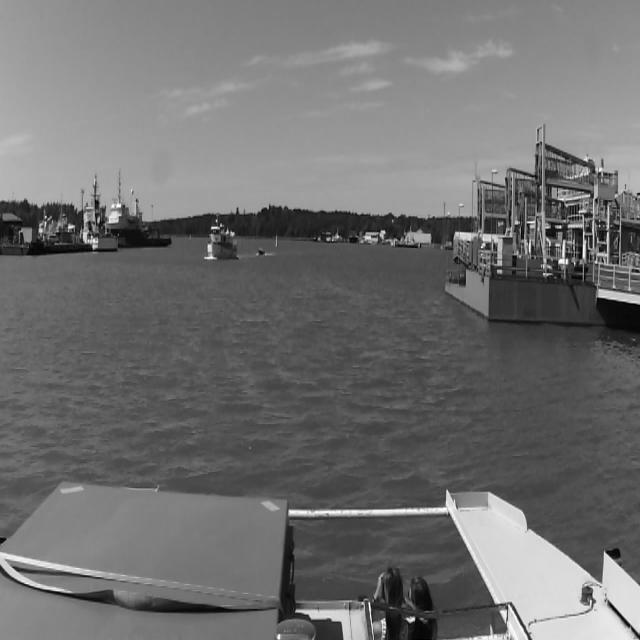ship: (103, 169, 174, 248), (205, 211, 238, 262), (81, 172, 101, 250), (257, 246, 266, 259)
